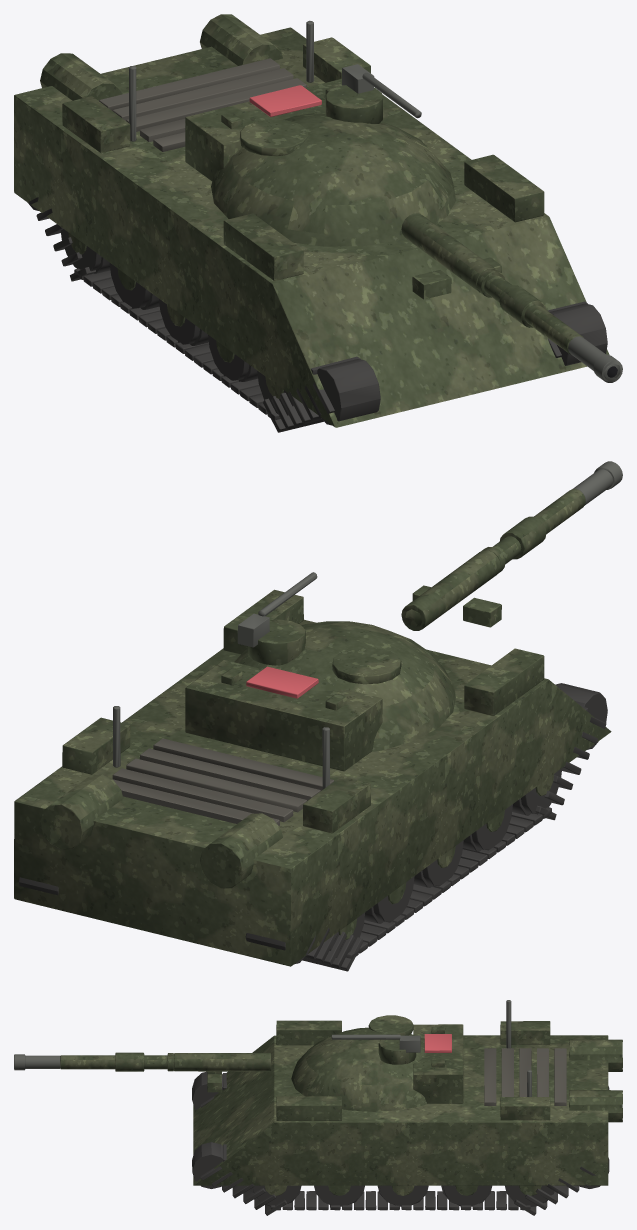
Rendered from mbt_e2_kp_chonma_LOD1.glb.
3 views of the same model, one above another, from view 1: azimuth 30°, elevation 25°; view 2: azimuth 150°, elevation 25°; view 3: azimuth 270°, elevation 25° (orthographic). The views are drawn at different scales.
Visible parts, largest first — view 1: mbt_e2_kp_chonma_LOD1_body, mbt_e2_kp_chonma_LOD1_track, mbt_e2_kp_chonma_LOD1_deck, mbt_e2_kp_chonma_LOD1_gun, mbt_e2_kp_chonma_LOD1_team; view 2: mbt_e2_kp_chonma_LOD1_body, mbt_e2_kp_chonma_LOD1_deck, mbt_e2_kp_chonma_LOD1_track, mbt_e2_kp_chonma_LOD1_gun, mbt_e2_kp_chonma_LOD1_team; view 3: mbt_e2_kp_chonma_LOD1_body, mbt_e2_kp_chonma_LOD1_track, mbt_e2_kp_chonma_LOD1_deck, mbt_e2_kp_chonma_LOD1_gun, mbt_e2_kp_chonma_LOD1_team.
Part boxes in pixels (x1=…): mbt_e2_kp_chonma_LOD1_body: x1=14, y1=14, x2=609, y2=427; mbt_e2_kp_chonma_LOD1_track: x1=27, y1=197, x2=607, y2=432; mbt_e2_kp_chonma_LOD1_deck: x1=99, y1=58, x2=306, y2=151; mbt_e2_kp_chonma_LOD1_gun: x1=129, y1=20, x2=622, y2=382; mbt_e2_kp_chonma_LOD1_team: x1=249, y1=85, x2=321, y2=116; mbt_e2_kp_chonma_LOD1_body: x1=14, y1=489, x2=611, y2=966; mbt_e2_kp_chonma_LOD1_deck: x1=112, y1=738, x2=334, y2=825; mbt_e2_kp_chonma_LOD1_track: x1=18, y1=683, x2=607, y2=971; mbt_e2_kp_chonma_LOD1_gun: x1=113, y1=461, x2=622, y2=789; mbt_e2_kp_chonma_LOD1_team: x1=246, y1=666, x2=318, y2=698; mbt_e2_kp_chonma_LOD1_body: x1=60, y1=1015, x2=622, y2=1195; mbt_e2_kp_chonma_LOD1_track: x1=192, y1=1071, x2=609, y2=1215; mbt_e2_kp_chonma_LOD1_deck: x1=484, y1=1048, x2=566, y2=1105; mbt_e2_kp_chonma_LOD1_gun: x1=14, y1=1000, x2=531, y2=1096; mbt_e2_kp_chonma_LOD1_team: x1=424, y1=1034, x2=451, y2=1052.
Size of the model in its own units: 3.3 by 2.71 by 9.71.
Materials: 6 (1 with a texture image).
